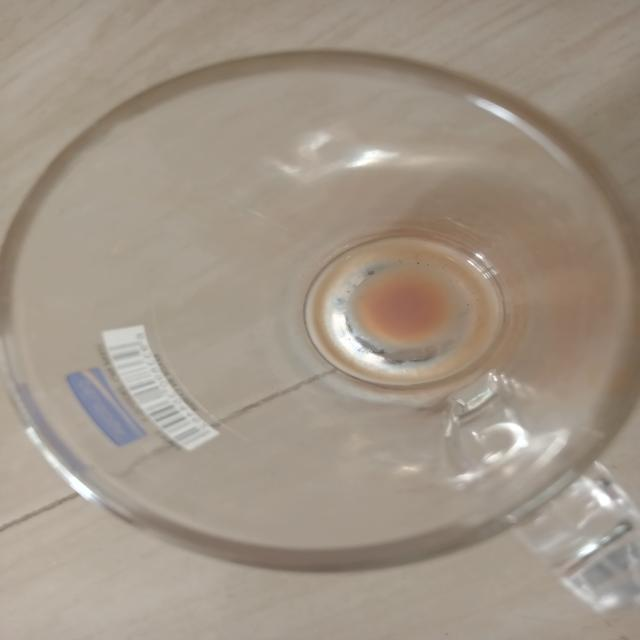glass-VX4N: (2, 49, 640, 608)
